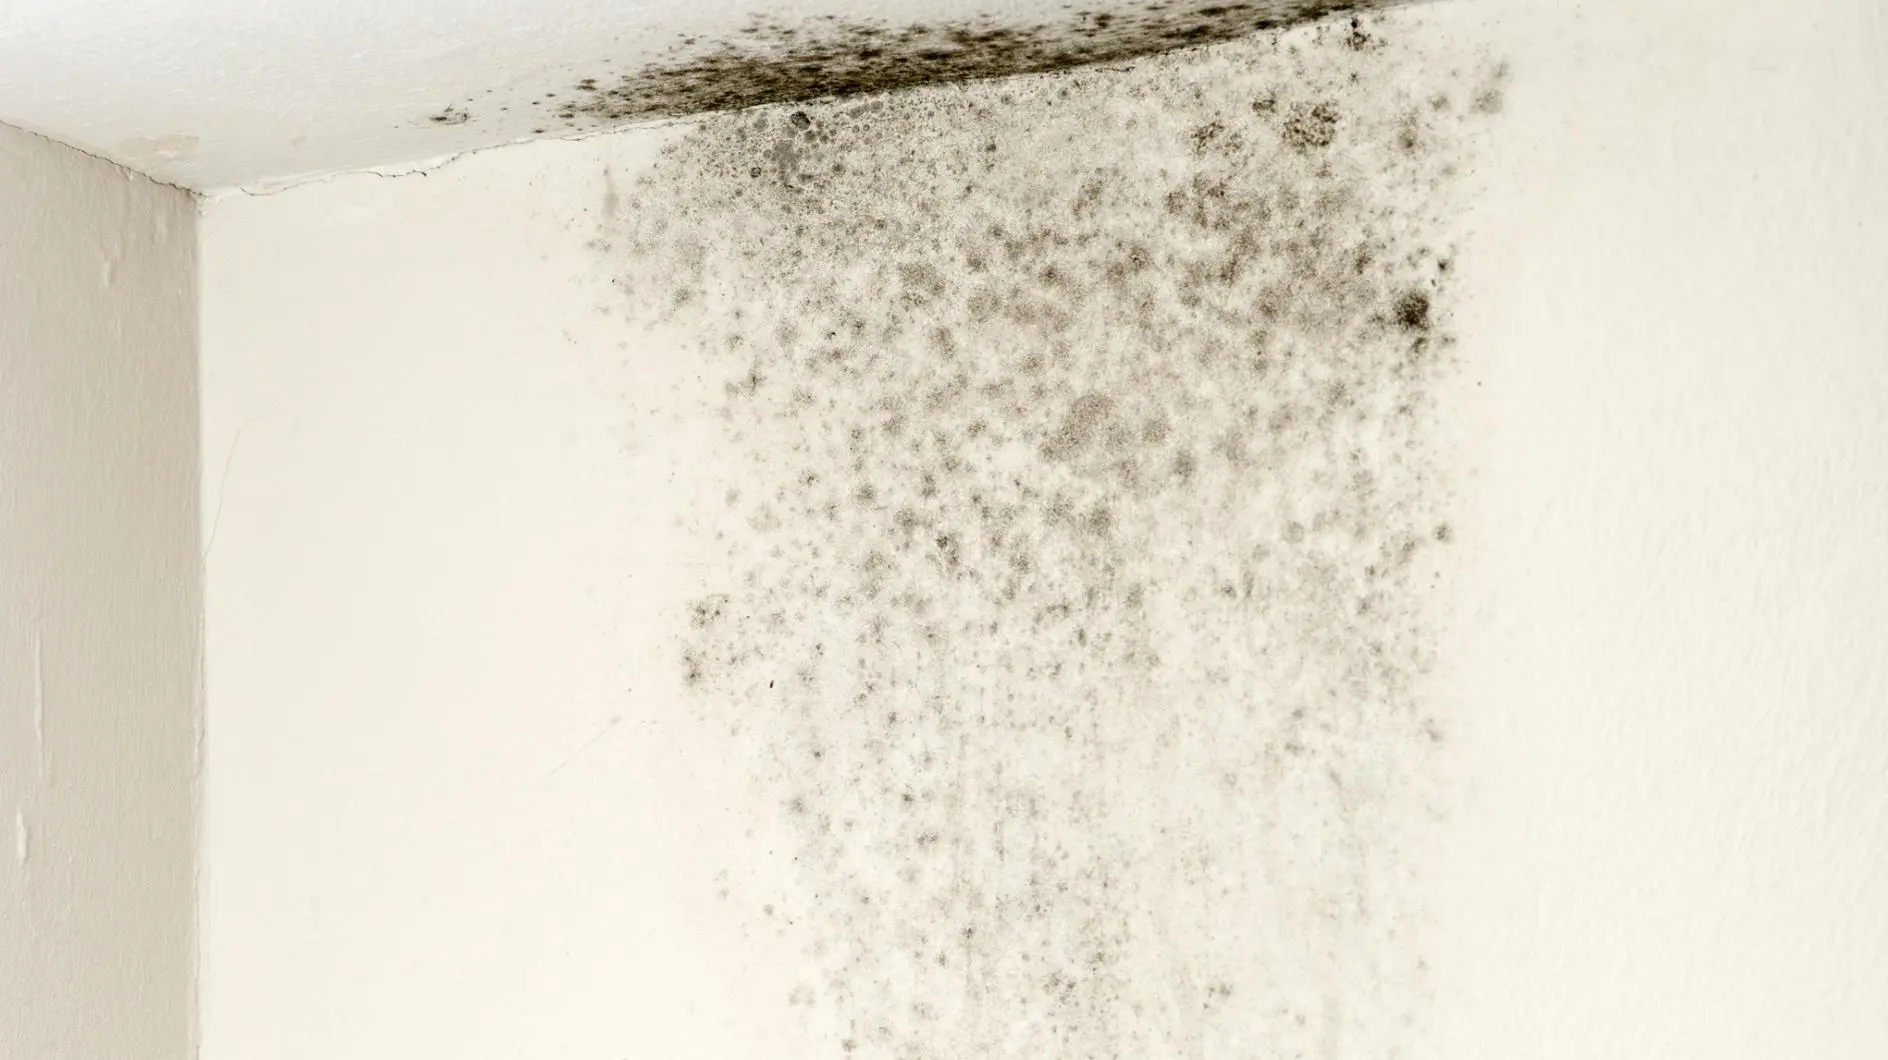schimmel: (607, 18, 1293, 119), (1349, 257, 1508, 358), (1186, 104, 1352, 165), (744, 147, 961, 193)
